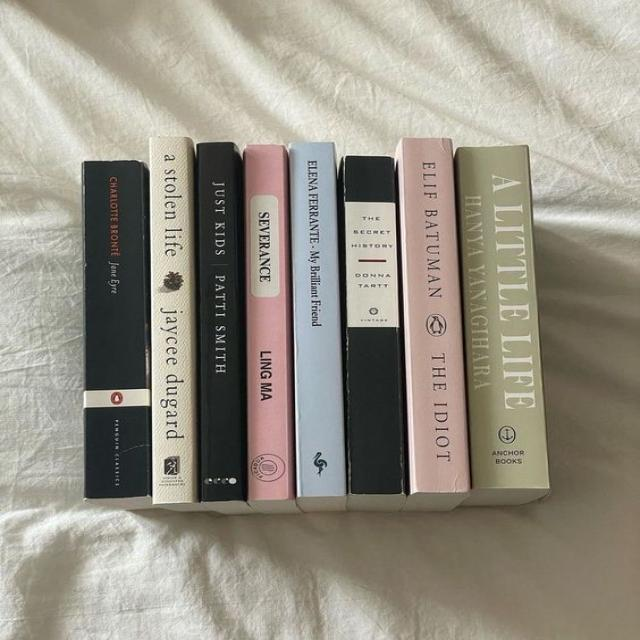book: (455, 146, 549, 503), (396, 138, 469, 506), (84, 161, 149, 498), (340, 155, 404, 495), (289, 142, 346, 497), (195, 142, 244, 500), (244, 144, 293, 501), (150, 138, 196, 504)
